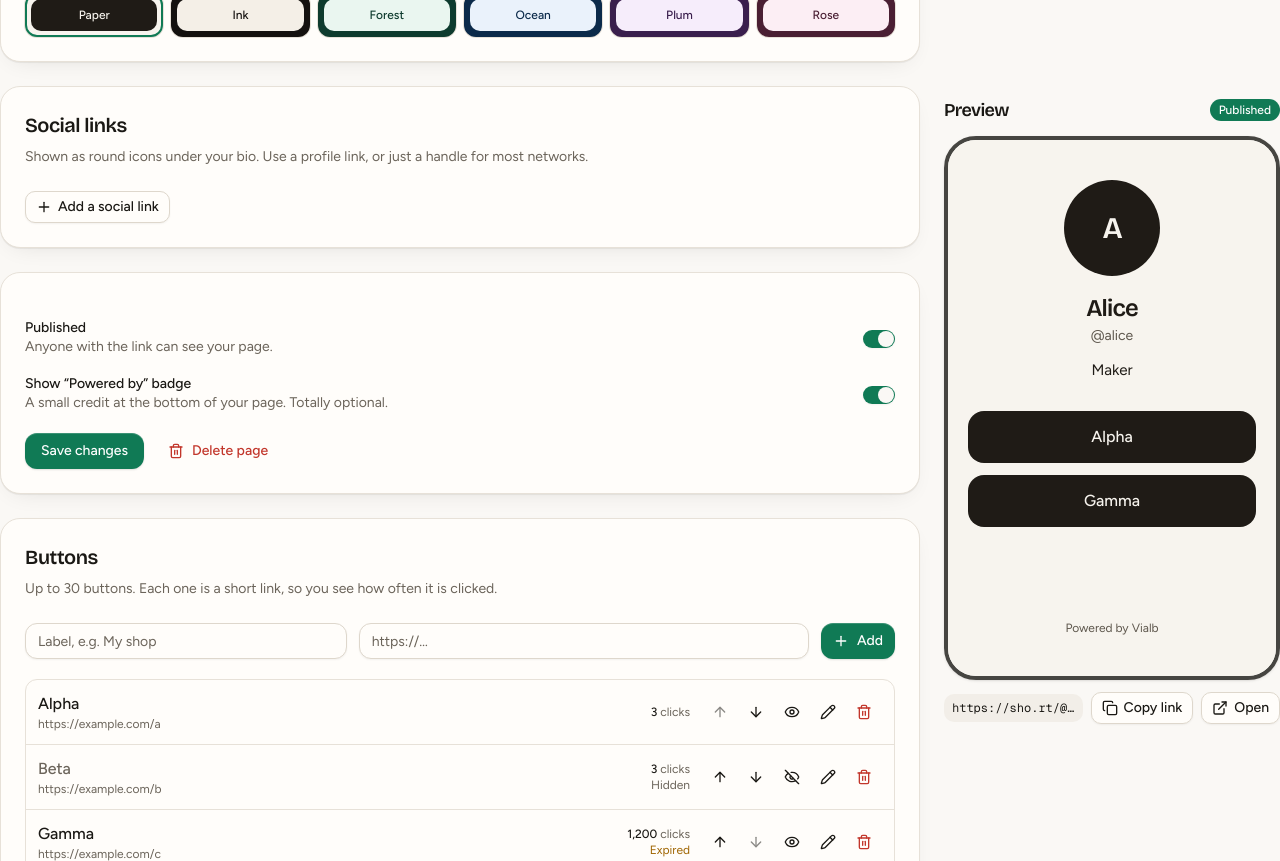
Test case: BioEditor with a page and buttons › shows the server's reason when an edit is refused
(page scrolled)
Click the button named "Edit Alpha".
click(828, 712)  # box 810,694 -> 846,730
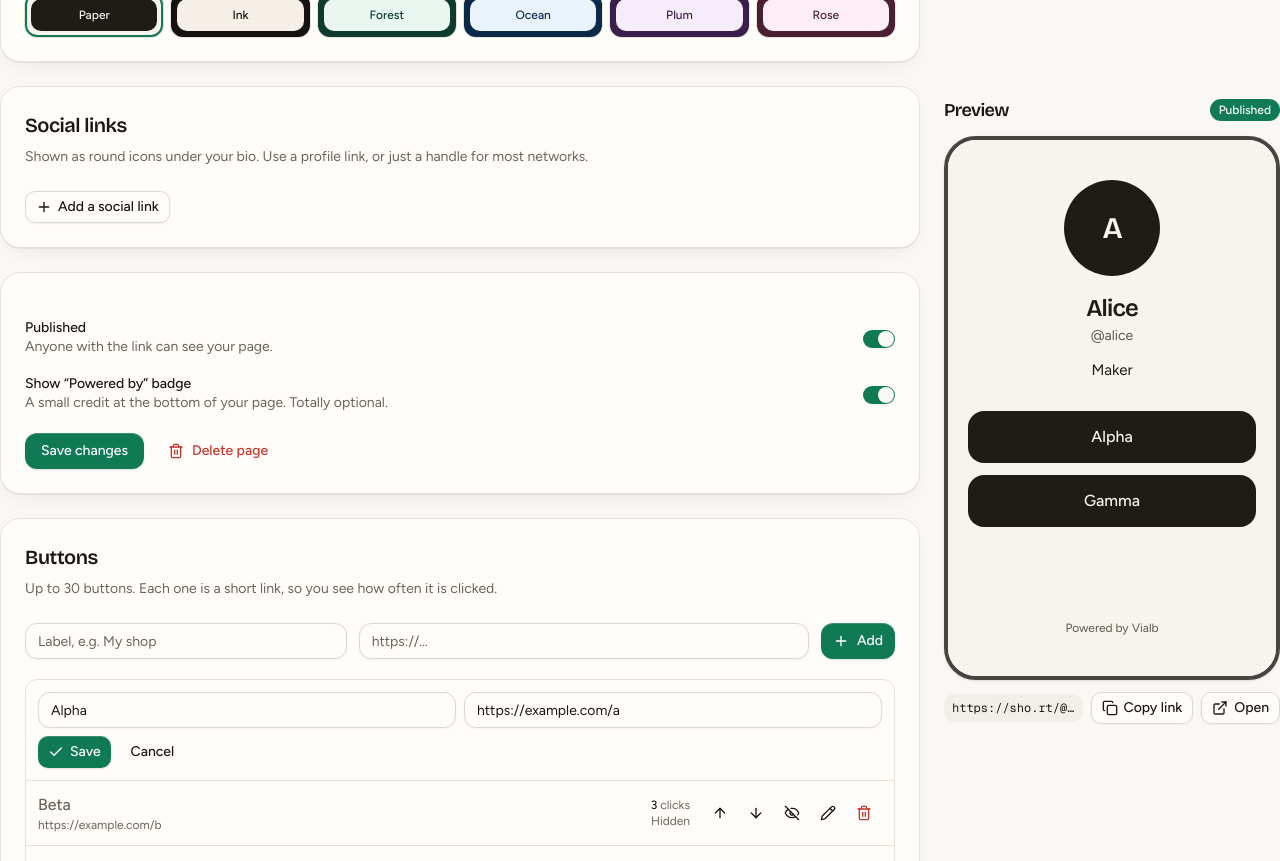
Click the button "Save".
click(74, 752)  # box 38,736 -> 111,768
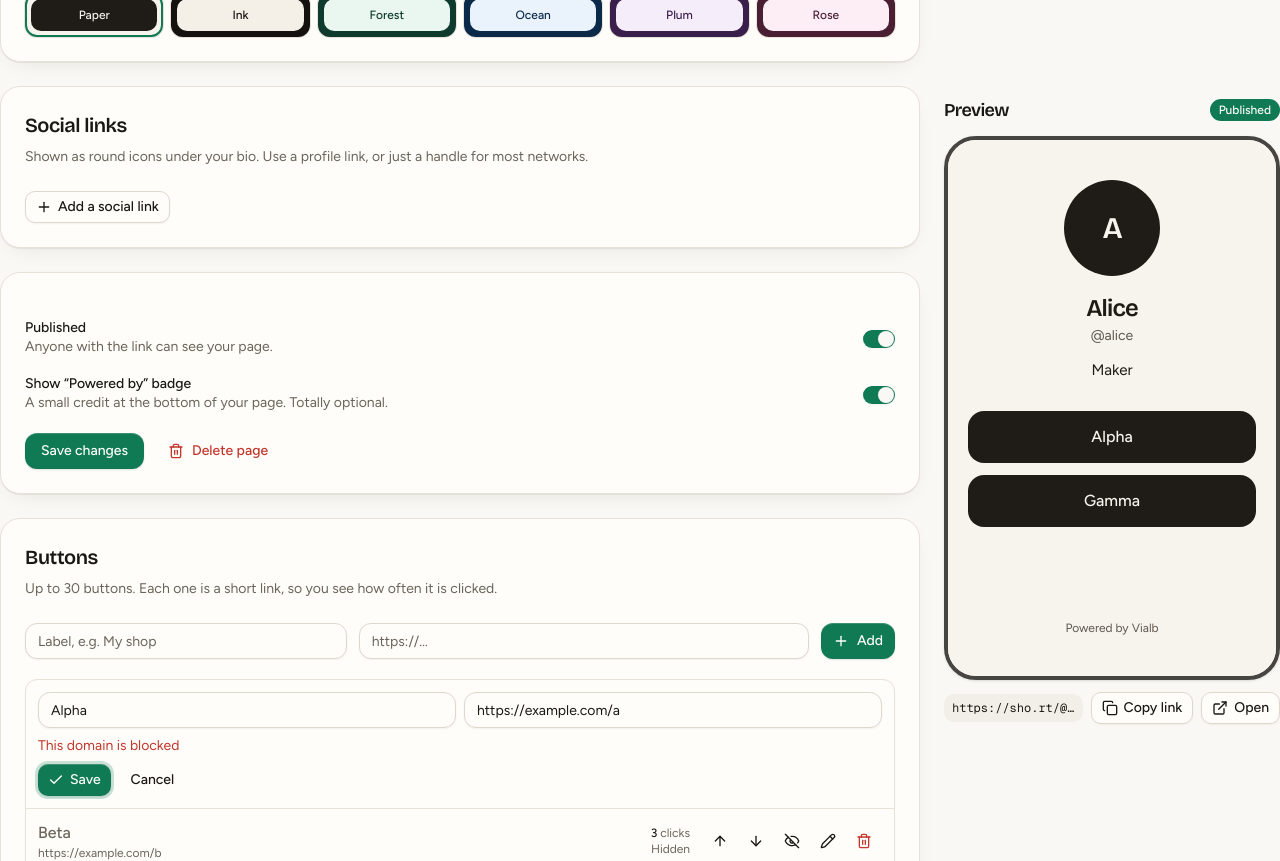
Expected: the text "This domain is blocked" is shown, 38,737 -> 179,754
